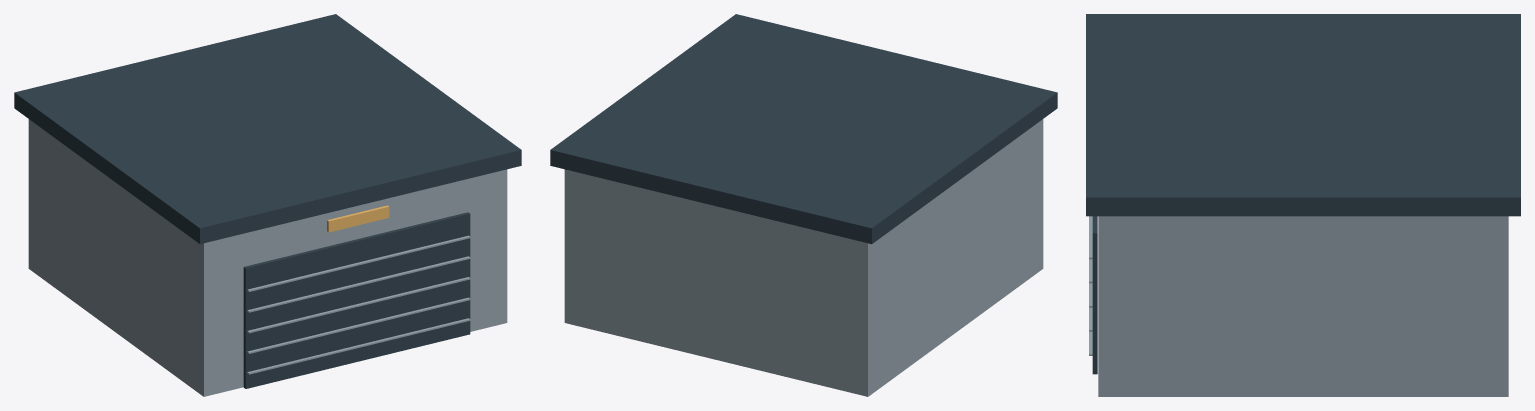
The model's file is hangar.glb.
The picture shows the model from 3 angles, left to right: view 1: azimuth 30°, elevation 25°; view 2: azimuth 150°, elevation 25°; view 3: azimuth 270°, elevation 25°; orthographic projection. The views are drawn at different scales.
Parts seen in each view (by area): view 1: Roof, Body, Door, Sign, DoorSlat_3, DoorSlat_0, DoorSlat_1, DoorSlat_2, DoorSlat_4; view 2: Body, Roof; view 3: Roof, Body, Door.
Boxes of the visible parts, left/top/right/bottom form: Roof: left=14, top=14, right=521, bottom=244; Body: left=28, top=119, right=507, bottom=396; Door: left=243, top=212, right=470, bottom=388; Sign: left=327, top=205, right=389, bottom=232; DoorSlat_3: left=247, top=256, right=470, bottom=312; DoorSlat_0: left=247, top=318, right=470, bottom=374; DoorSlat_1: left=247, top=297, right=470, bottom=353; DoorSlat_2: left=247, top=277, right=470, bottom=333; DoorSlat_4: left=247, top=235, right=470, bottom=291; Body: left=564, top=119, right=1043, bottom=396; Roof: left=550, top=14, right=1057, bottom=244; Roof: left=1086, top=14, right=1520, bottom=216; Body: left=1098, top=216, right=1508, bottom=396; Door: left=1092, top=216, right=1097, bottom=374.
Bounding box in the file's own units: 10.6 × 5.5 × 10.6.
